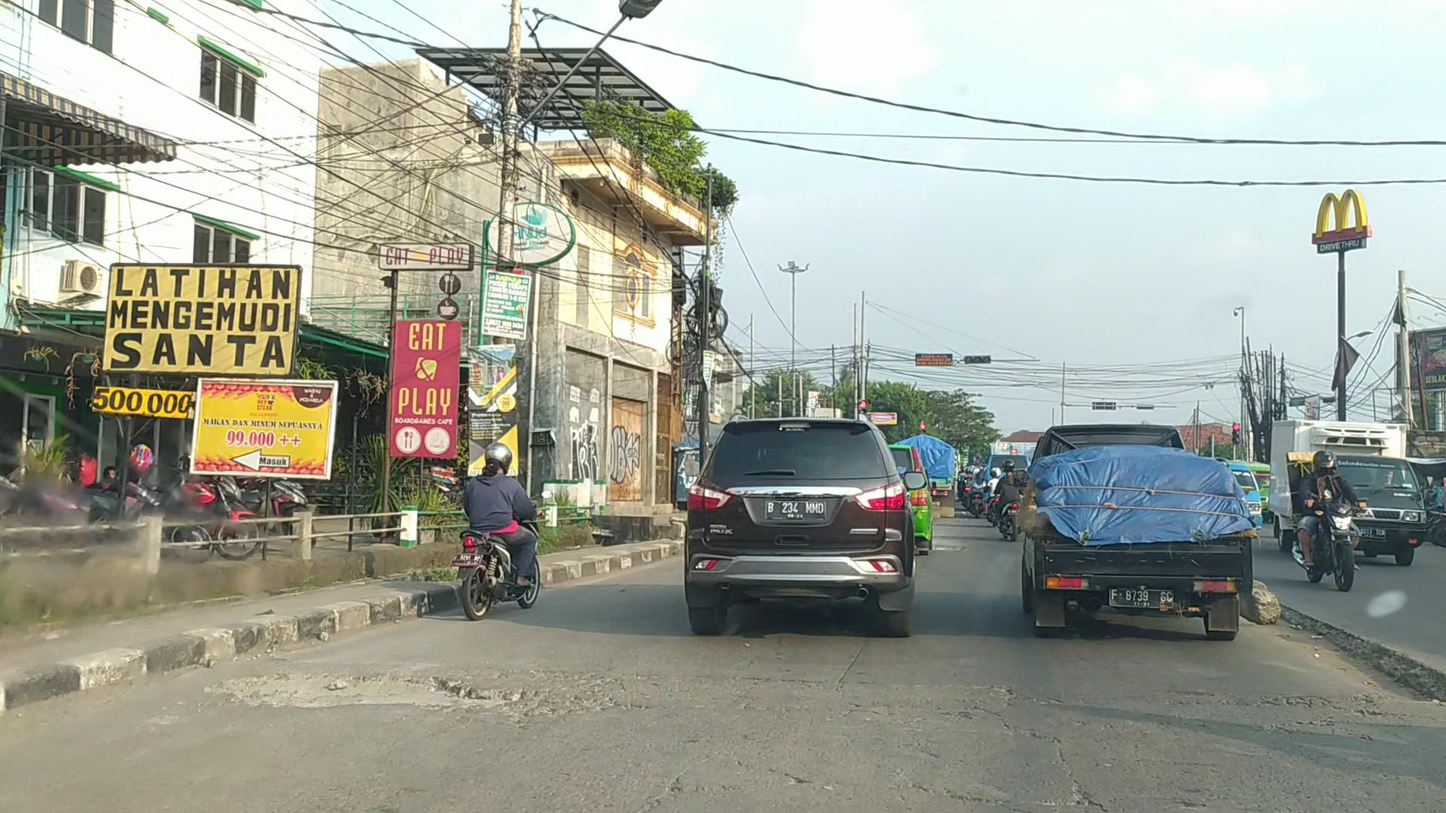pothole: (1279, 599, 1446, 705), (219, 675, 509, 708)
